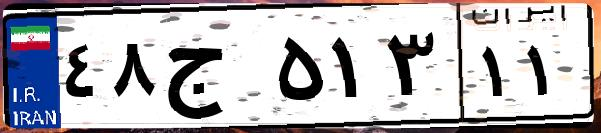1: (330, 28, 385, 110), (475, 38, 525, 113), (525, 38, 570, 115)
3: (385, 28, 445, 110)
4: (57, 26, 110, 100)
5: (270, 28, 330, 110)
8: (110, 28, 158, 98)
ج: (158, 20, 270, 120)
